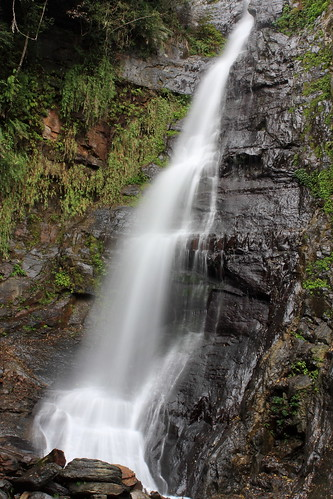wufengciWaterfall: (35, 8, 274, 489)
